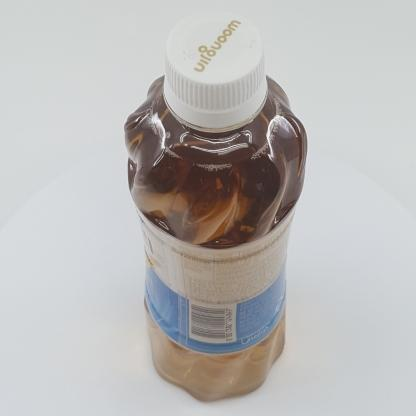------500ML: (123, 11, 308, 403)
